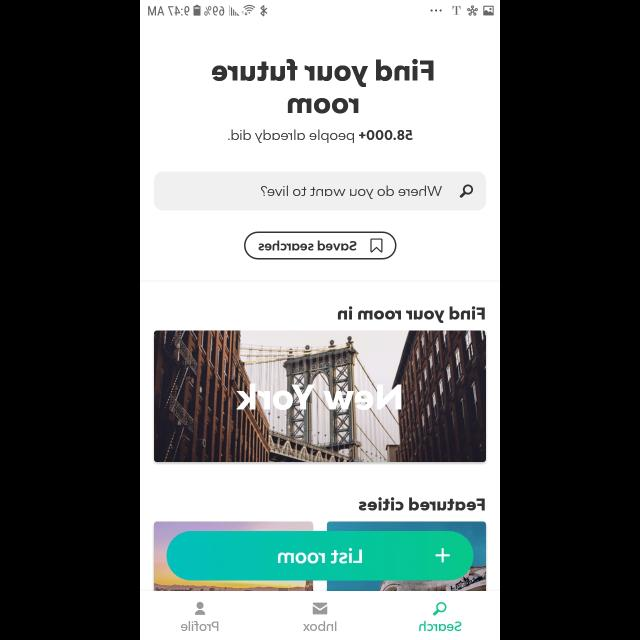icon: (433, 602, 447, 616), (312, 603, 328, 615), (460, 185, 472, 199), (194, 602, 206, 614)
image: (154, 330, 486, 462)
input: (154, 172, 486, 212)
text: (211, 59, 433, 114), (236, 384, 402, 411), (338, 306, 484, 324), (228, 129, 412, 143), (260, 185, 442, 199), (358, 497, 486, 511), (418, 621, 462, 631), (303, 620, 337, 632), (181, 621, 219, 631)
textbutton: (167, 532, 473, 580), (244, 232, 396, 260)
uppertaskbar: (140, 1, 500, 17)
